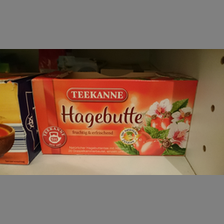tea: (29, 70, 198, 157)
